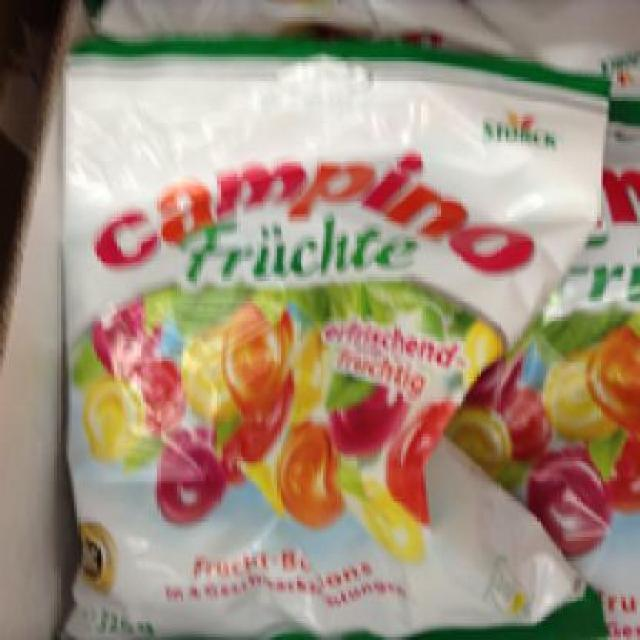Candy: (62, 43, 575, 632)
